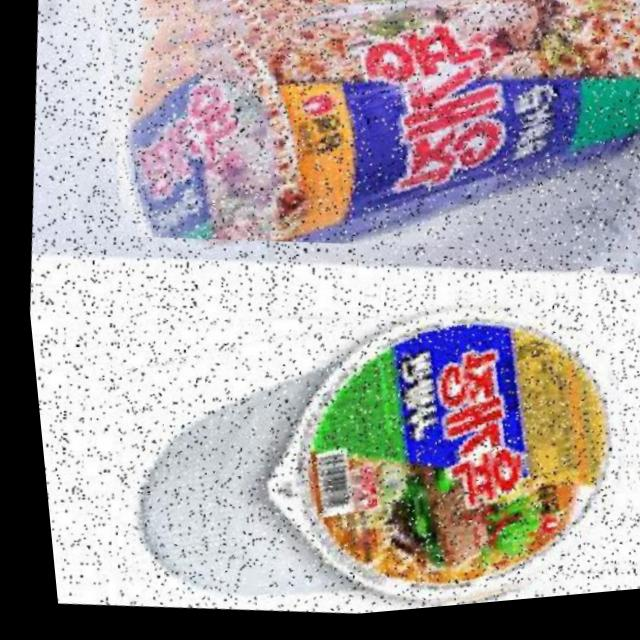Miscellaneous: (77, 239, 640, 636), (81, 0, 640, 303)
